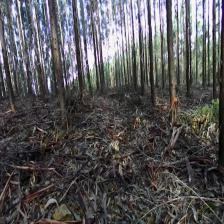trunk: (50, 15, 68, 123), (167, 3, 180, 120), (0, 33, 17, 109), (72, 10, 85, 95), (148, 23, 156, 103), (84, 35, 93, 95), (139, 26, 146, 96), (186, 5, 190, 95), (212, 14, 216, 100)
